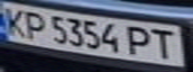3: (63, 16, 84, 48)
4: (100, 20, 124, 55)
5: (45, 12, 69, 46), (81, 18, 103, 52)
K: (0, 3, 30, 37)
P: (124, 24, 157, 57), (21, 9, 48, 40)
T: (148, 26, 181, 61)
